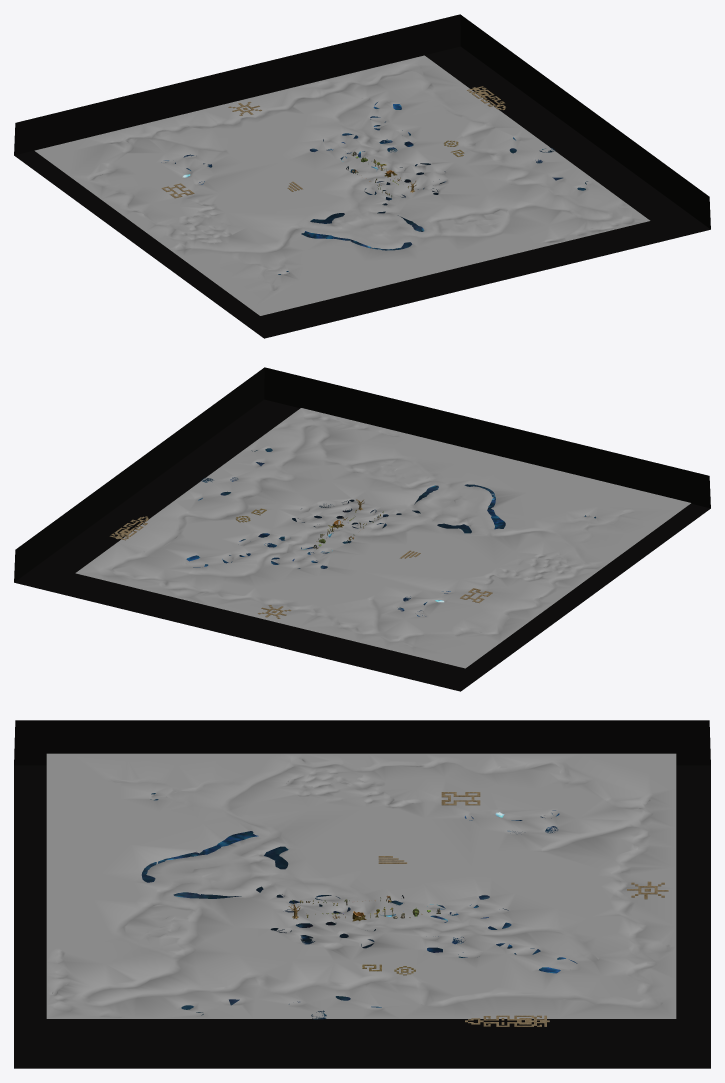
File: xianzhundixing_001.FBX
The picture shows the model from 3 angles, top to bottom: view 1: azimuth 30°, elevation 25°; view 2: azimuth 150°, elevation 25°; view 3: azimuth 270°, elevation 25°; orthographic projection. The views are drawn at different scales.
Parts seen in each view (by area): view 1: xzldixing_001, Box01, shui_001, zhuangkuai_001; view 2: xzldixing_001, Box01, shui_001, zhuangkuai_001; view 3: xzldixing_001, Box01, shui_001, zhuangkuai_001.
Part boxes in pixels (x1,y1,x2,y2): xzldixing_001: (34,55,650,315); Box01: (14,14,710,338); shui_001: (161,102,587,274); zhuangkuai_001: (161,86,505,198); xzldixing_001: (75,408,690,668); Box01: (14,367,710,691); shui_001: (186,448,595,616); zhuangkuai_001: (109,508,492,618); xzldixing_001: (46,753,676,1018); Box01: (14,720,710,1068); shui_001: (141,793,577,1019); zhuangkuai_001: (362,792,668,1026).
Size of the model in its own units: 33420 by 2343 by 32425.
